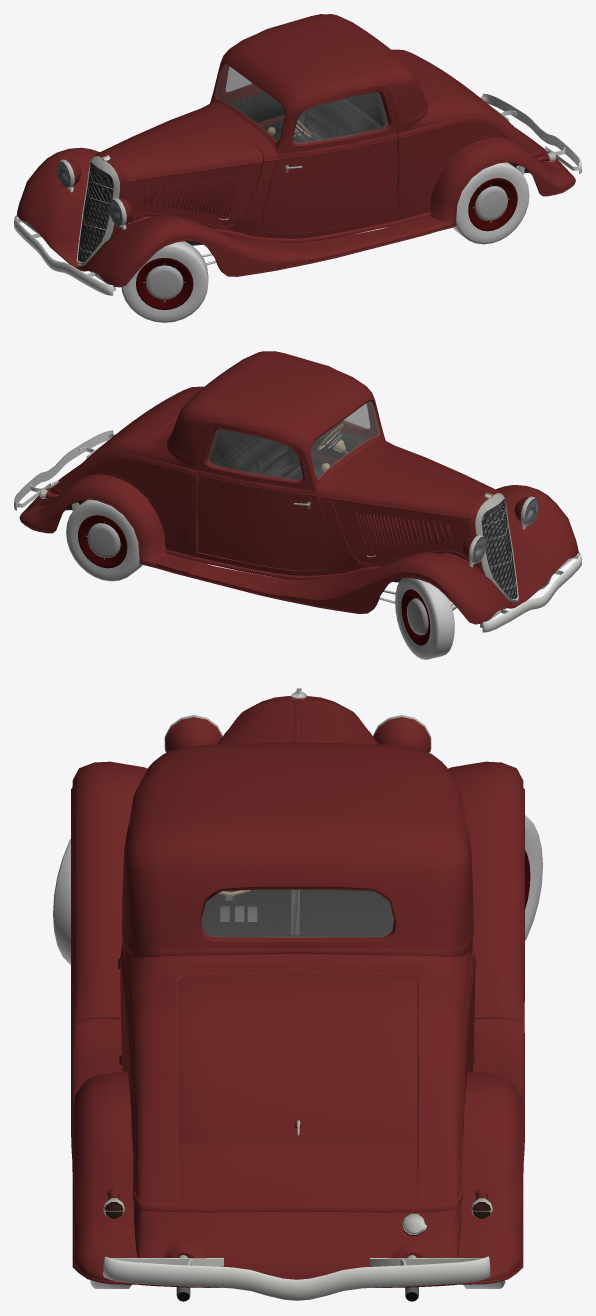
File: 40COUPE.fbx
3 renders of one model, top to bottom at view 1: azimuth 30°, elevation 25°; view 2: azimuth 150°, elevation 25°; view 3: azimuth 270°, elevation 25°, orthographic. The views are drawn at different scales.
Visible parts, largest first — view 1: body, door_left, hood, fender_front, wheel_01, fender_rear, wheel_02, grill, interior, sideskirts, glass, door_right (+3 smaller); view 2: body, door_right, hood, fender_front, fender_rear, wheel_03, wheel_04, interior, grill, sideskirts, glass, door_left (+3 smaller); view 3: body, fender_front, fender_rear, bumper_rear, glass, interior, sideskirts, hood, Object001, wheel_04, wheel_01, stoplights.
Boxes of the visible parts, x1=… form: body: x1=109, y1=14, x2=567, y2=242; door_left: x1=263, y1=86, x2=399, y2=233; hood: x1=98, y1=108, x2=263, y2=230; fender_front: x1=17, y1=147, x2=305, y2=287; wheel_01: x1=121, y1=241, x2=208, y2=322; fender_rear: x1=426, y1=137, x2=575, y2=230; wheel_02: x1=453, y1=162, x2=529, y2=244; grill: x1=76, y1=153, x2=125, y2=265; interior: x1=218, y1=92, x2=386, y2=142; sideskirts: x1=287, y1=217, x2=438, y2=264; glass: x1=216, y1=64, x2=284, y2=142; door_right: x1=217, y1=64, x2=305, y2=130; body: x1=28, y1=351, x2=485, y2=579; door_right: x1=196, y1=423, x2=332, y2=570; hood: x1=332, y1=445, x2=496, y2=568; fender_front: x1=289, y1=485, x2=578, y2=624; fender_rear: x1=19, y1=474, x2=168, y2=567; wheel_03: x1=66, y1=499, x2=142, y2=581; wheel_04: x1=395, y1=578, x2=454, y2=659; interior: x1=209, y1=423, x2=377, y2=479; grill: x1=469, y1=490, x2=518, y2=602; sideskirts: x1=156, y1=554, x2=308, y2=601; glass: x1=310, y1=401, x2=379, y2=479; door_left: x1=289, y1=401, x2=378, y2=466; body: x1=119, y1=699, x2=475, y2=1287; fender_front: x1=71, y1=761, x2=524, y2=1032; fender_rear: x1=72, y1=1072, x2=523, y2=1284; bumper_rear: x1=103, y1=1256, x2=490, y2=1300; glass: x1=201, y1=889, x2=393, y2=937; interior: x1=201, y1=889, x2=393, y2=936; sideskirts: x1=71, y1=1018, x2=524, y2=1161; hood: x1=217, y1=700, x2=378, y2=744; Object001: x1=164, y1=715, x2=431, y2=752; wheel_04: x1=525, y1=815, x2=542, y2=940; wheel_01: x1=53, y1=839, x2=70, y2=964; stoplights: x1=103, y1=1187, x2=492, y2=1218.
Size of the model in its own units: 177 by 65.11 by 76.06.
